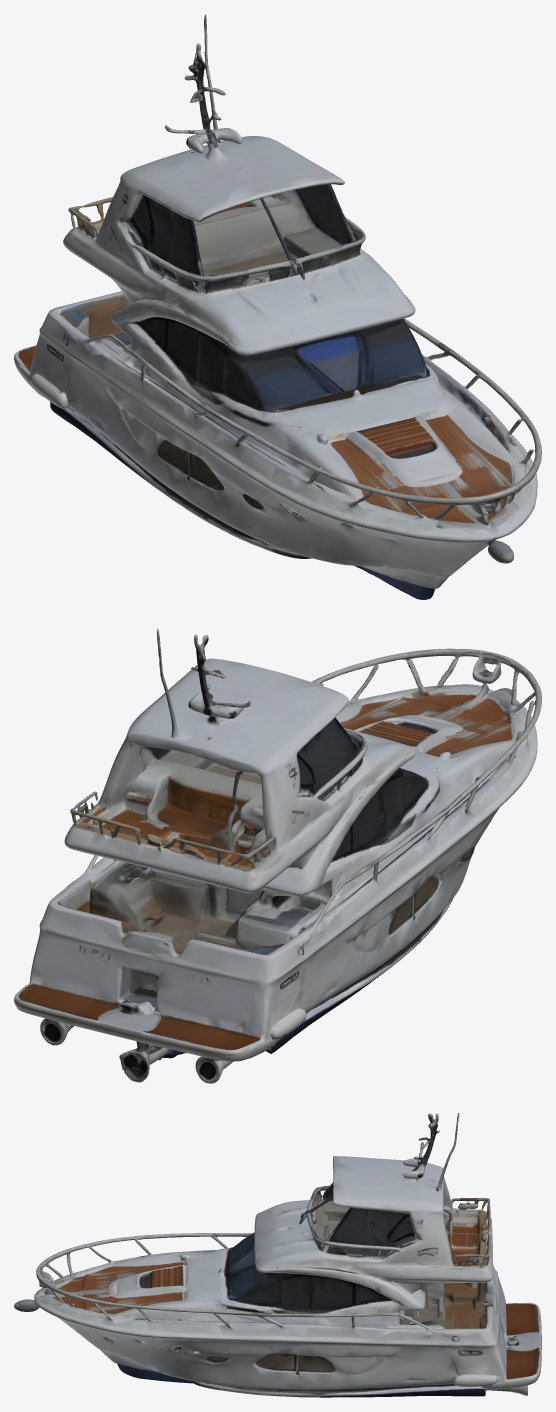
File: yacht-optimized.glb
3 renders of one model, top to bottom at view 1: azimuth 30°, elevation 25°; view 2: azimuth 150°, elevation 25°; view 3: azimuth 270°, elevation 25°, orthographic. The views are drawn at different scales.
Parts seen in each view (by area): view 1: tripo_node_e5a2bf84-433e-481c-b849-e47e3d983621; view 2: tripo_node_e5a2bf84-433e-481c-b849-e47e3d983621; view 3: tripo_node_e5a2bf84-433e-481c-b849-e47e3d983621.
Boxes of the visible parts, x1,y1,x2,y2 form: tripo_node_e5a2bf84-433e-481c-b849-e47e3d983621: (14,14,541,599); tripo_node_e5a2bf84-433e-481c-b849-e47e3d983621: (14,628,541,1083); tripo_node_e5a2bf84-433e-481c-b849-e47e3d983621: (14,1113,541,1397).
Size of the model in its own units: 0.3687 by 0.5909 by 1.
Materials: 1 (1 with a texture image).
